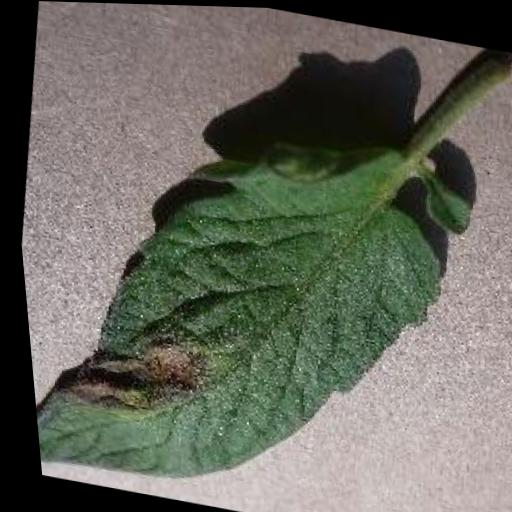Late Blight: (5, 76, 474, 512)
